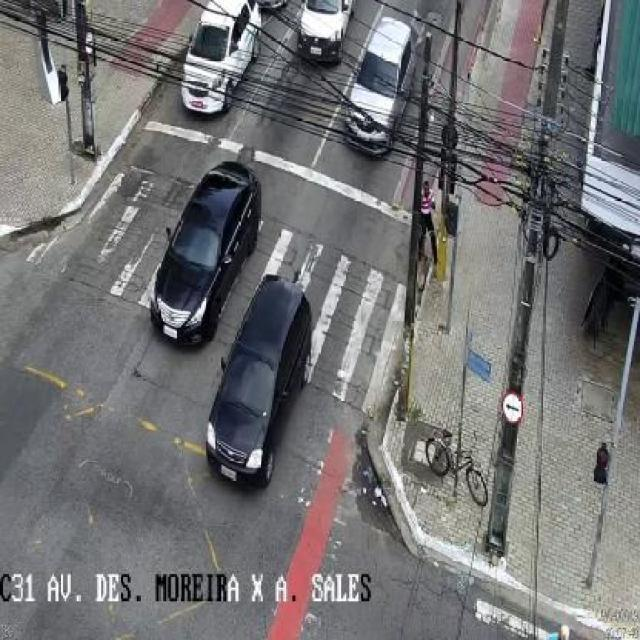Car: (205, 274, 313, 490), (148, 160, 264, 348), (340, 17, 416, 157), (181, 0, 264, 115), (296, 0, 355, 66)
Cycle: (424, 428, 489, 506)
